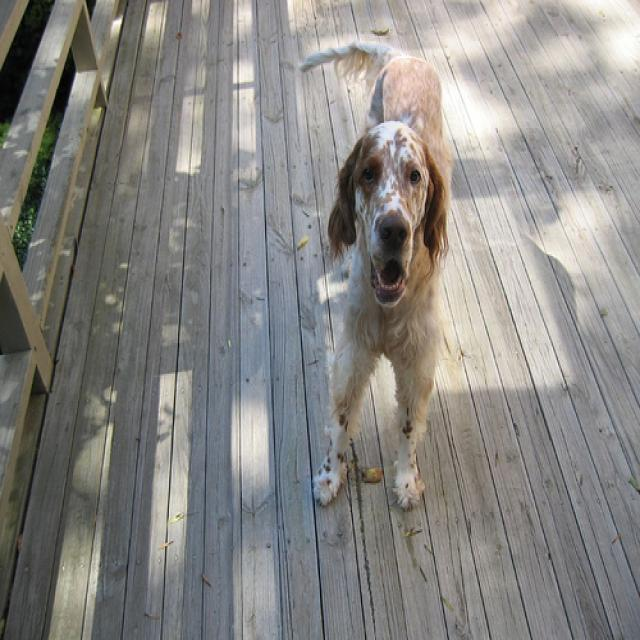dog-english_setter: (297, 31, 452, 514)
